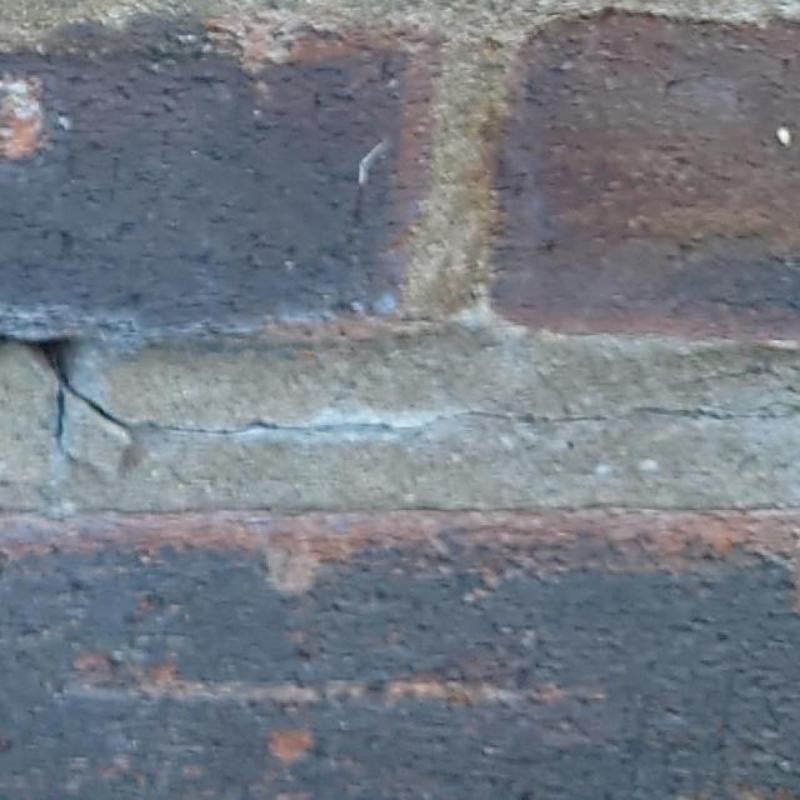pothole: (127, 405, 799, 436), (1, 333, 123, 445)
